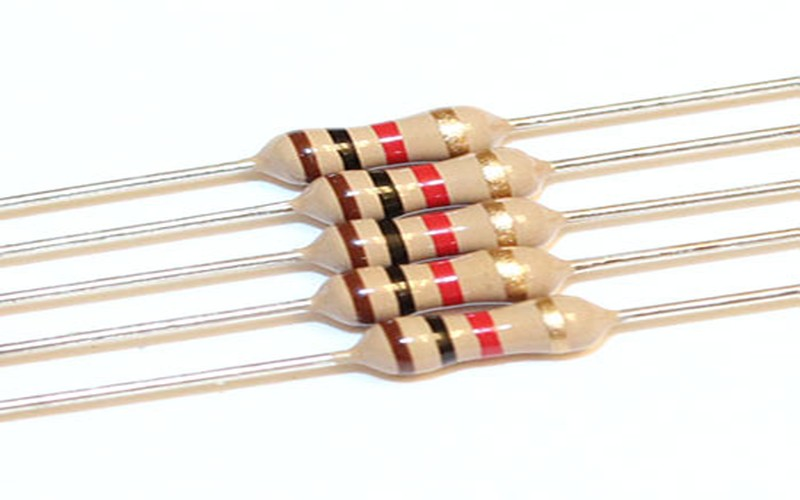Resistor: (234, 71, 632, 406)
